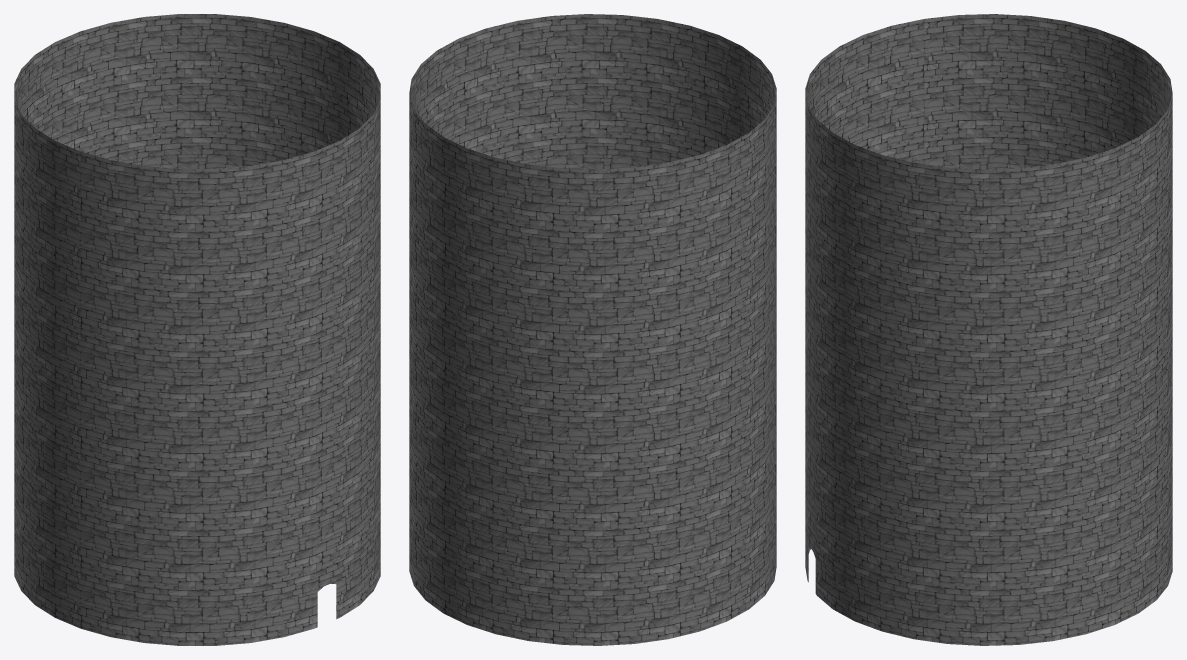
The model's file is Outer_Wall.fbx.
The picture shows the model from 3 angles, left to right: view 1: azimuth 30°, elevation 25°; view 2: azimuth 150°, elevation 25°; view 3: azimuth 270°, elevation 25°; orthographic projection.
Parts seen in each view (by area): view 1: Outer_Wall; view 2: Outer_Wall; view 3: Outer_Wall.
Boxes of the visible parts, x1=… form: Outer_Wall: x1=14, y1=14, x2=380, y2=645; Outer_Wall: x1=409, y1=14, x2=776, y2=645; Outer_Wall: x1=805, y1=14, x2=1172, y2=645.
Bounding box in the file's own units: 4276 × 6116 × 4276.
